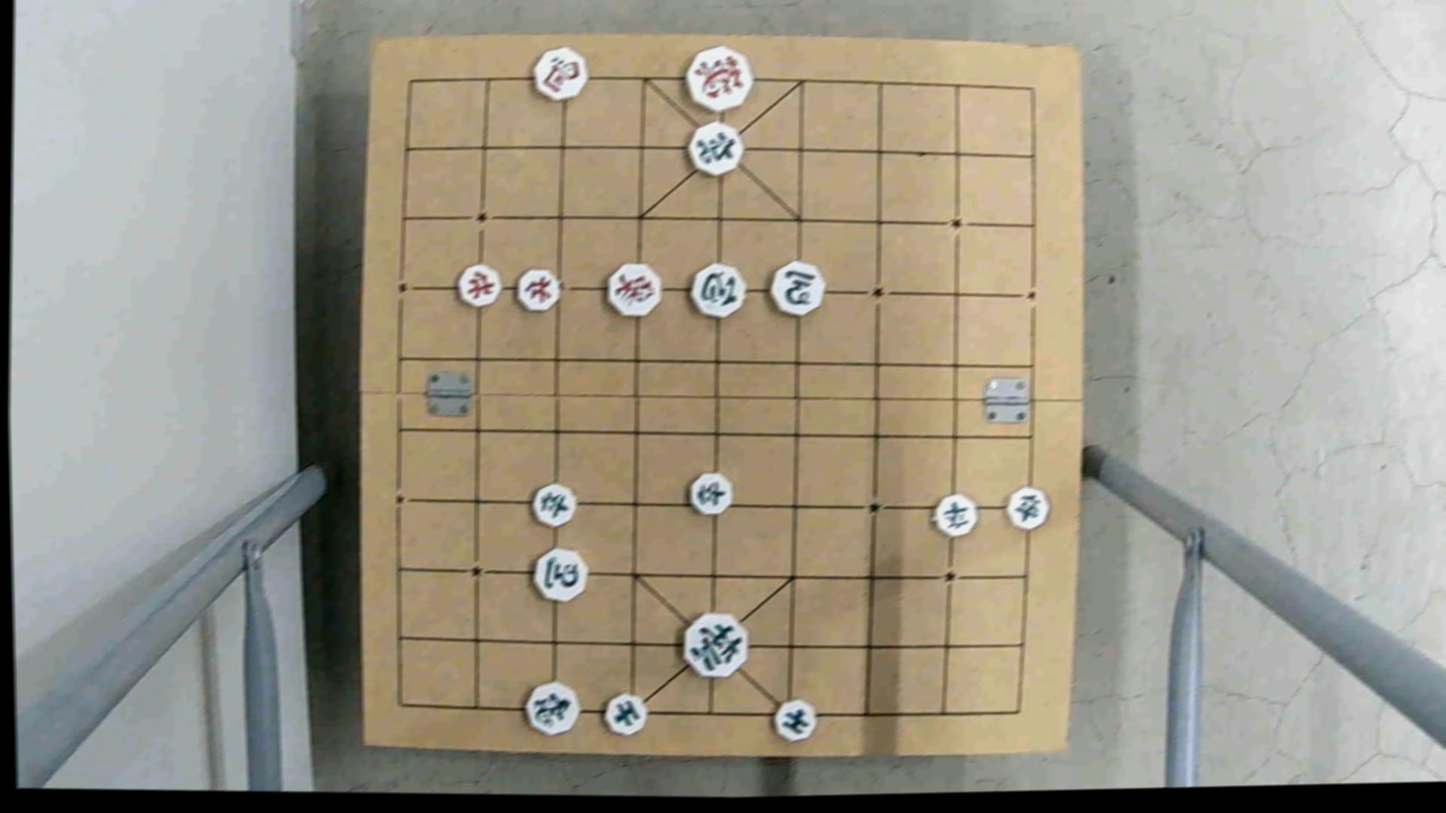cha_green: (687, 121, 745, 172)
jol_green: (684, 471, 736, 513), (529, 483, 579, 523), (929, 494, 979, 533), (1002, 488, 1051, 527)
jol_red: (514, 268, 561, 312), (454, 264, 504, 305)
ma_green: (767, 263, 828, 317), (530, 547, 590, 600)
ma_red: (527, 47, 589, 99)
po_green: (687, 266, 747, 317)
sa_green: (767, 700, 819, 739), (601, 694, 651, 733)
sang_green: (520, 681, 583, 734)
sang_red: (604, 261, 664, 315)
wang_green: (676, 617, 749, 677)
wang_red: (682, 47, 756, 108)
